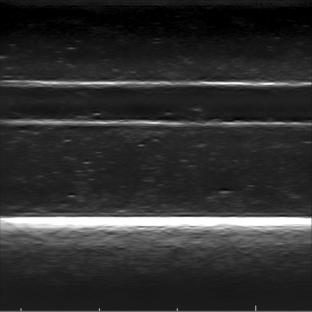vessel: (0, 78, 312, 129)
